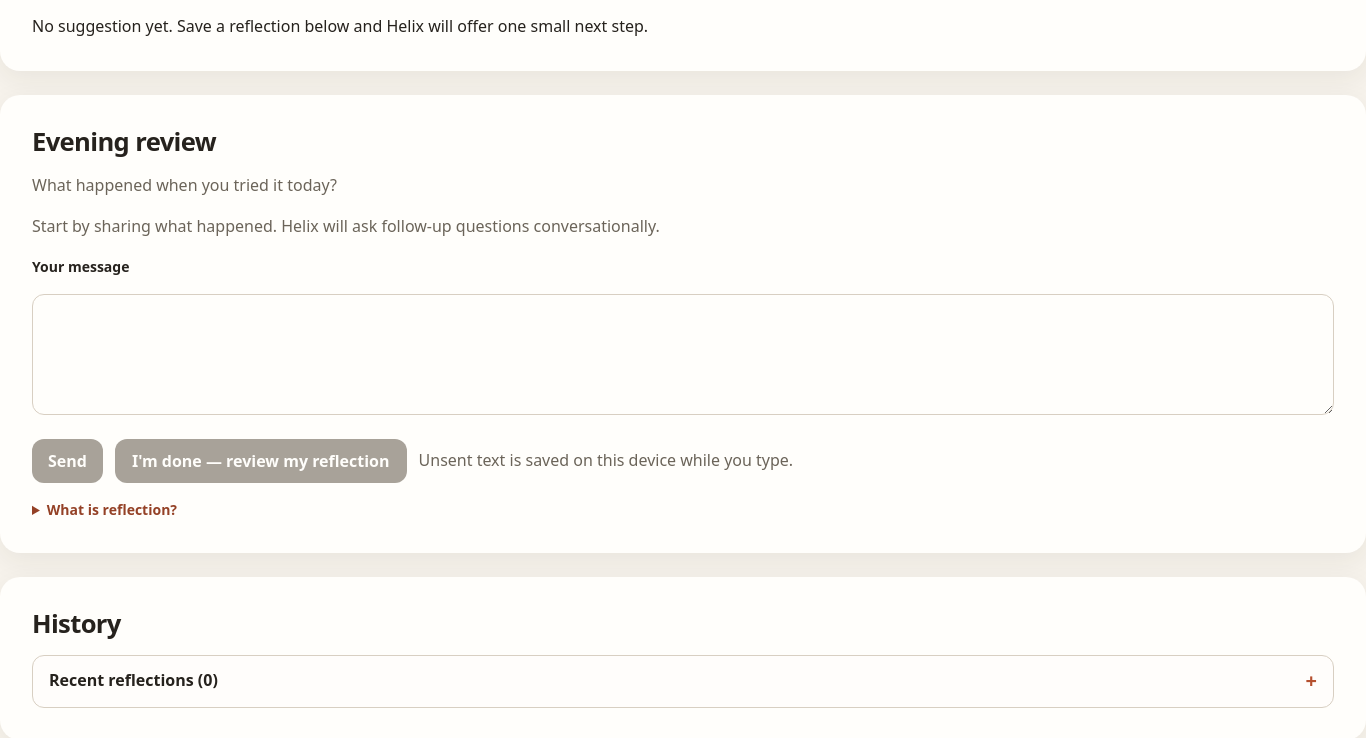
Test: TodayPage › shows a clear connection-required error when chat turn request fails
(page scrolled)
Type "I paused once." into the text box labelled "Your message" at (683, 355), box [32,294,1334,415]
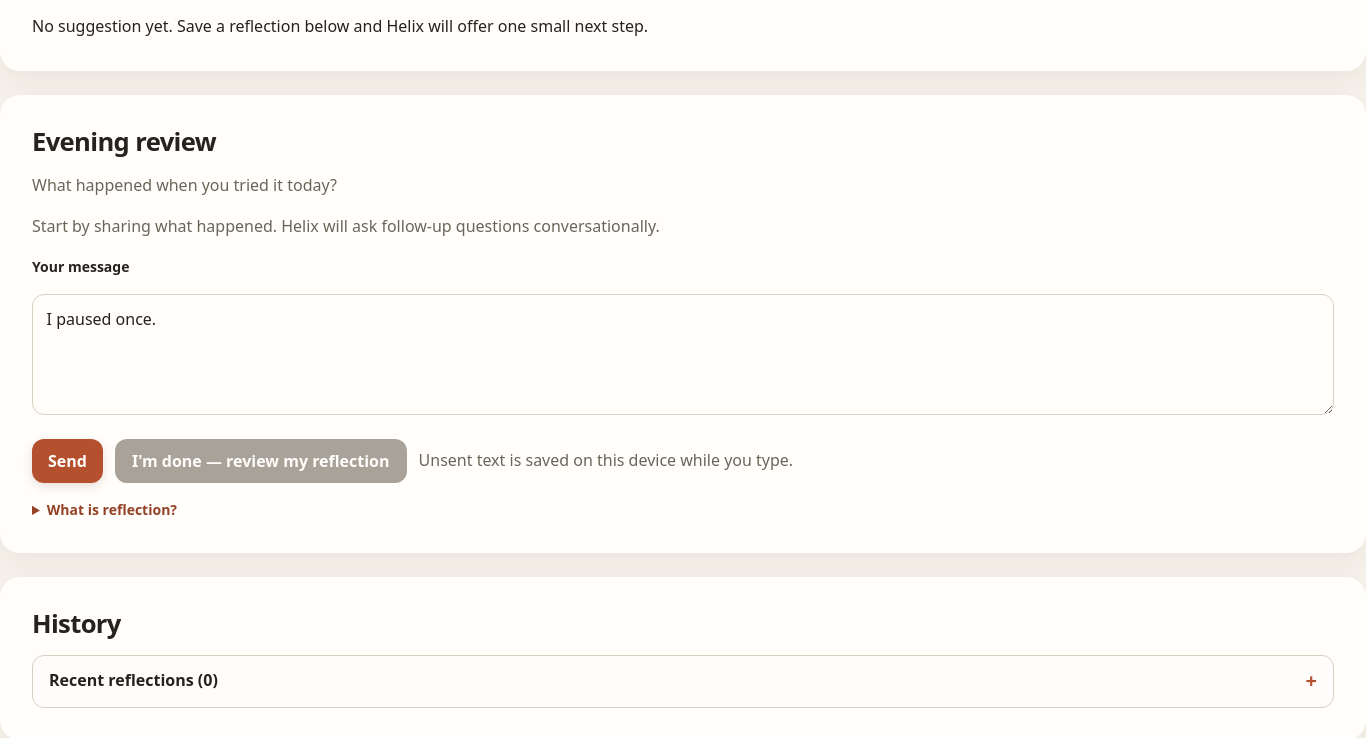
Click the button "Send" at (67, 461), box [32,439,103,483]
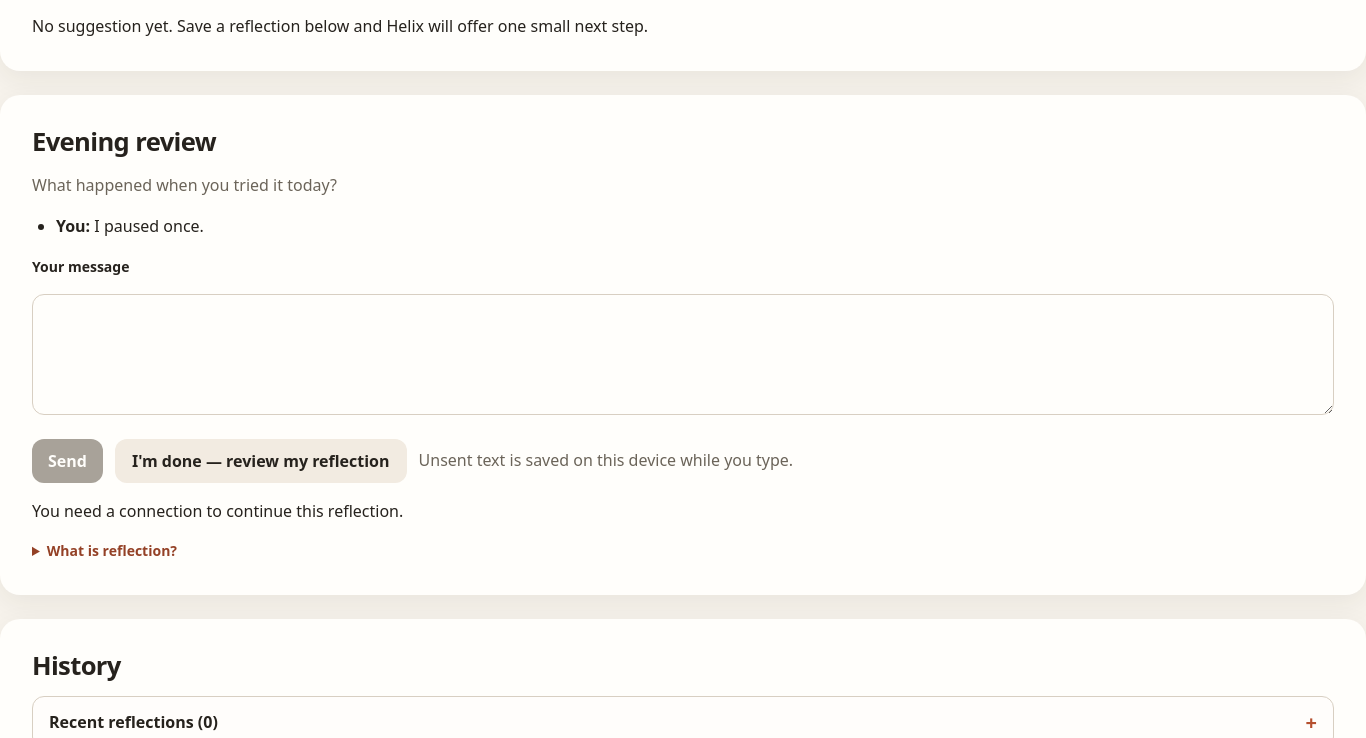
Check: the message reads "You need a connection to continue this reflection.", box [32,500,403,522]
